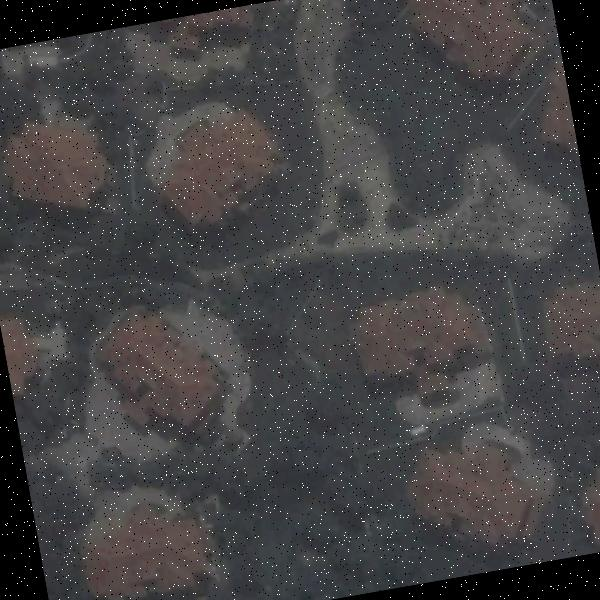Buildings: (88, 292, 214, 457), (394, 418, 544, 542), (348, 287, 482, 393), (161, 110, 278, 220), (2, 116, 100, 212), (80, 523, 204, 598), (416, 0, 526, 71), (529, 283, 600, 374), (534, 64, 581, 172), (169, 8, 248, 62), (0, 299, 39, 394), (577, 462, 600, 543)
